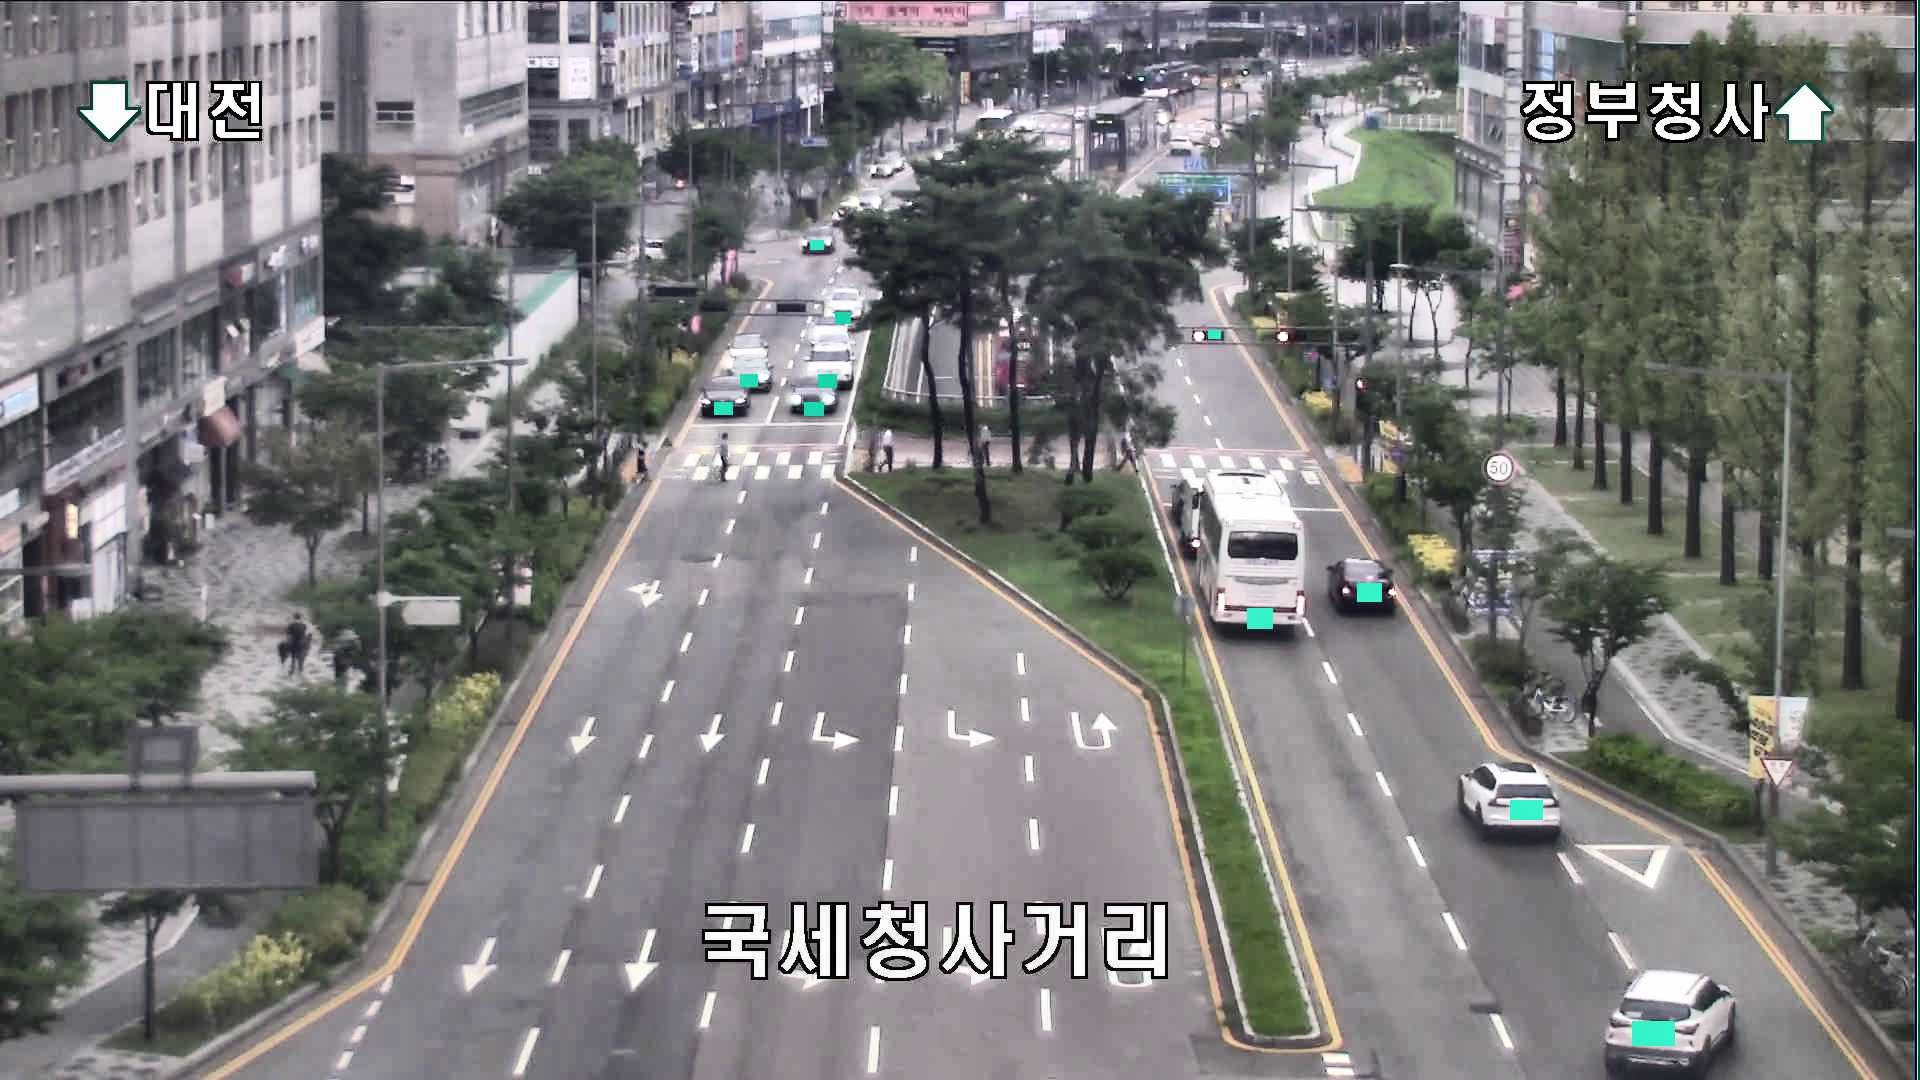crosswalk: (972, 421, 996, 468), (713, 431, 735, 481), (880, 425, 895, 473)
sidewalk: (286, 609, 311, 676), (629, 440, 649, 484)
